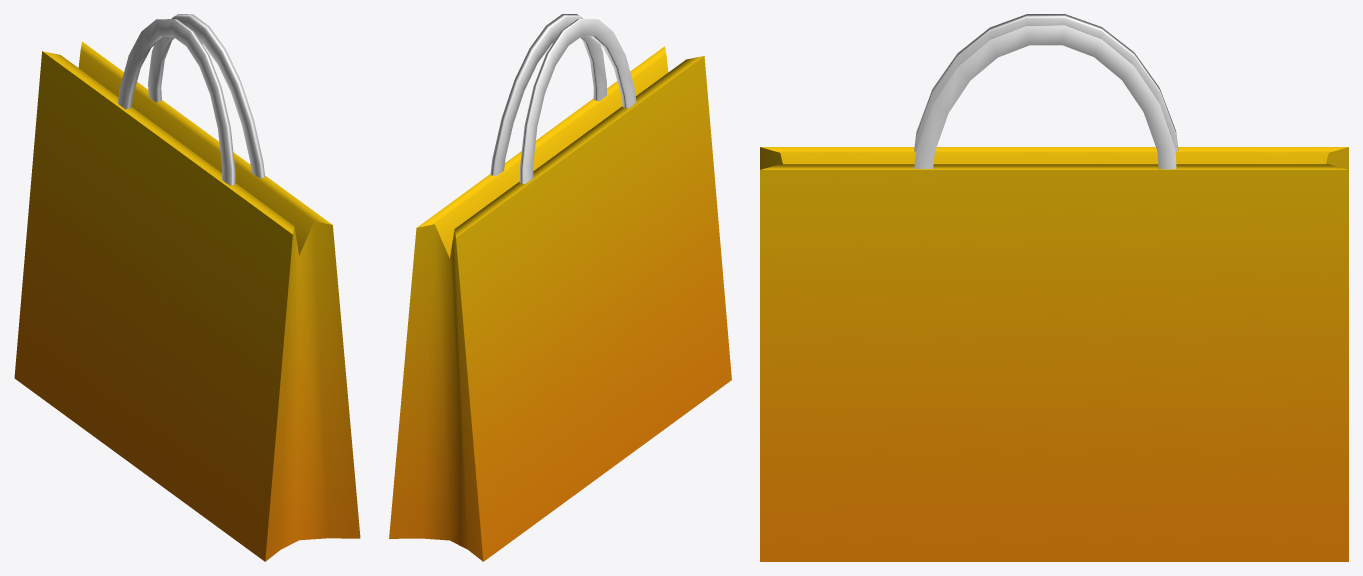
Rendered from PRP_Bag_5.fbx.
3 renders of one model, left to right at view 1: azimuth 30°, elevation 25°; view 2: azimuth 150°, elevation 25°; view 3: azimuth 270°, elevation 25°, orthographic. The views are drawn at different scales.
Parts seen in each view (by area): view 1: PRP_Bag_5; view 2: PRP_Bag_5; view 3: PRP_Bag_5.
Boxes of the visible parts, x1,y1,x2,y2 form: PRP_Bag_5: (14, 14, 360, 561); PRP_Bag_5: (389, 14, 731, 561); PRP_Bag_5: (760, 14, 1348, 561).
Size of the model in its own units: 15.58 by 68.56 by 71.05.
